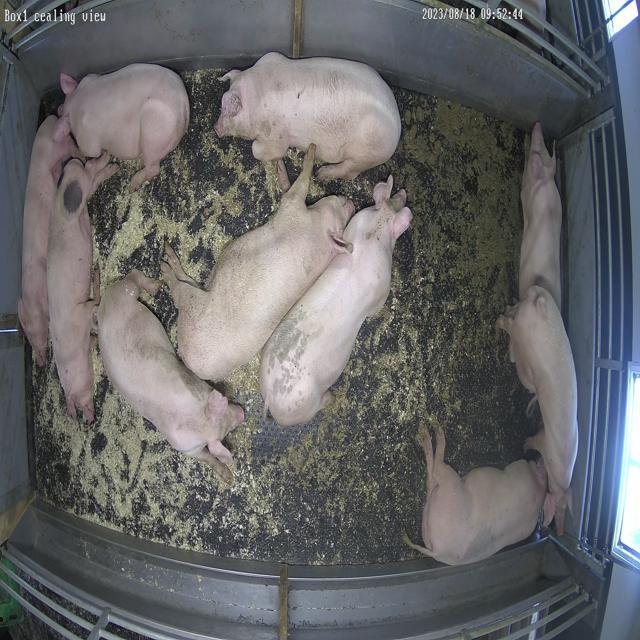Dirt: (126, 91, 533, 565), (176, 128, 271, 229)
Pig: (161, 144, 355, 381), (260, 176, 413, 426), (98, 271, 244, 466), (215, 52, 402, 179), (404, 426, 548, 566), (47, 154, 118, 424), (502, 286, 579, 524), (60, 63, 189, 190), (17, 115, 76, 367), (520, 122, 563, 308)
